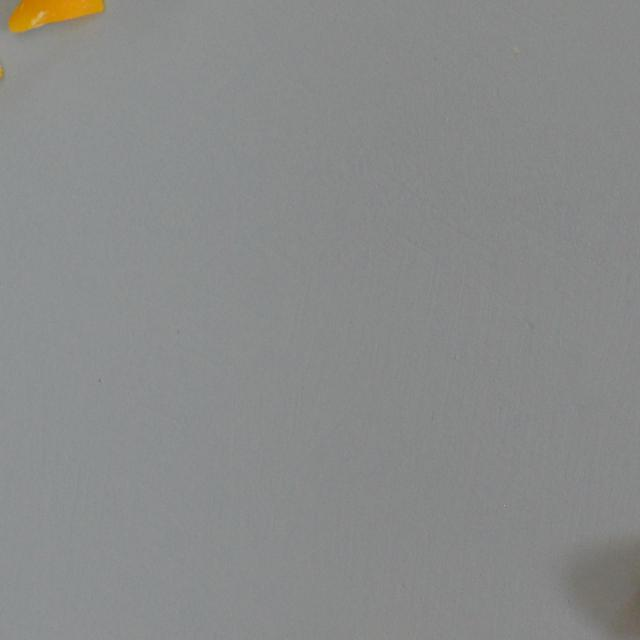estandar: (6, 0, 106, 32)
